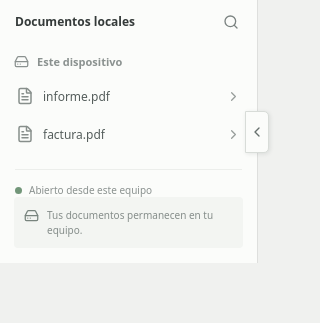
Test: PagesPanel › filters recent files by their visible file name
Click the button named "Buscar documentos" at (231, 22), box [217,8,245,36]
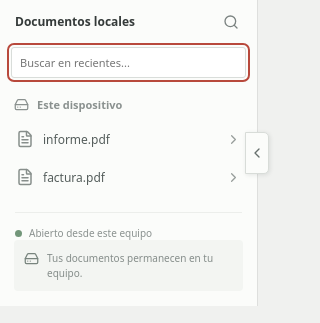
Type "factura" into the field named "Buscar documentos recientes" at (128, 62), box [11,47,246,78]
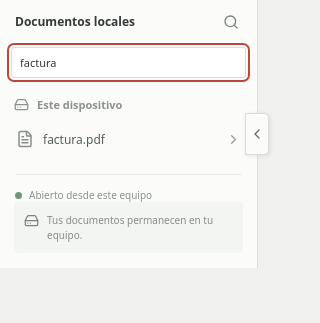
Expected: the button "factura.pdf" is shown, [7,120,250,158]
Expected: the button "informe.pdf" is gone
